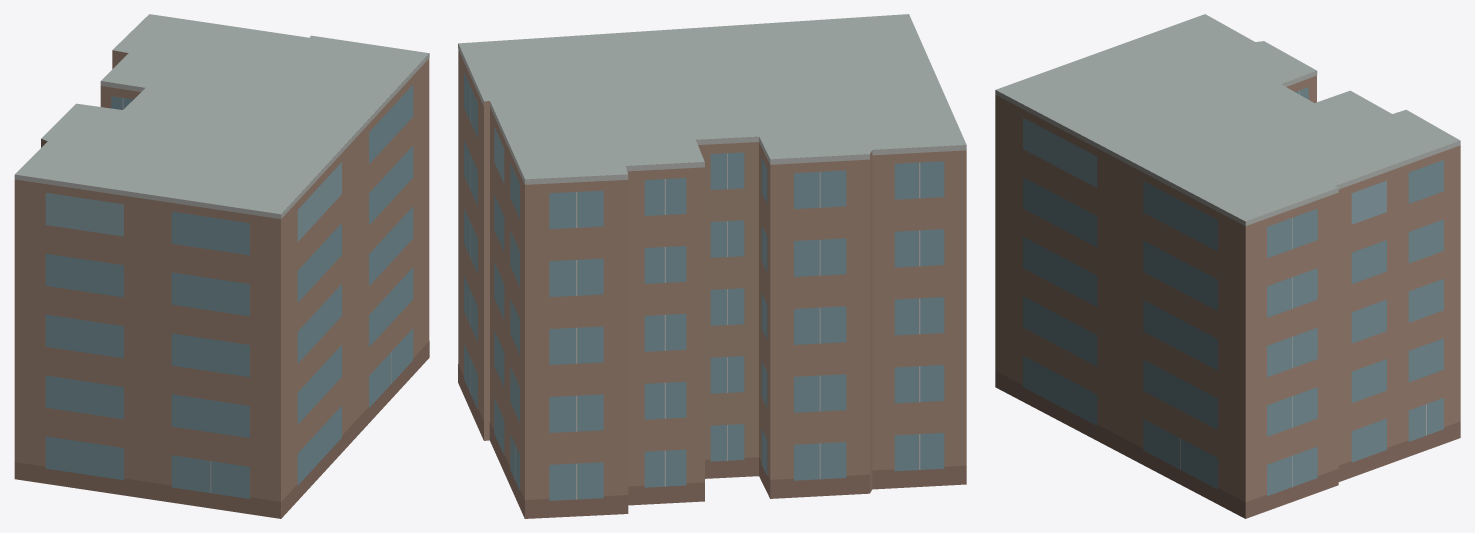
File: survey-upis-32778290.glb
The picture shows the model from 3 angles, left to right: view 1: azimuth 30°, elevation 25°; view 2: azimuth 150°, elevation 25°; view 3: azimuth 270°, elevation 25°; orthographic projection. The views are drawn at different scales.
Parts seen in each view (by area): view 1: survey-upis-32778290.tmp; view 2: survey-upis-32778290.tmp; view 3: survey-upis-32778290.tmp.
Part boxes in pixels (bbox=[...]): survey-upis-32778290.tmp: bbox=[14, 14, 429, 518]; survey-upis-32778290.tmp: bbox=[458, 14, 966, 518]; survey-upis-32778290.tmp: bbox=[995, 14, 1460, 518].
Bounding box in the file's own units: 22.83 × 15.25 × 21.63.
